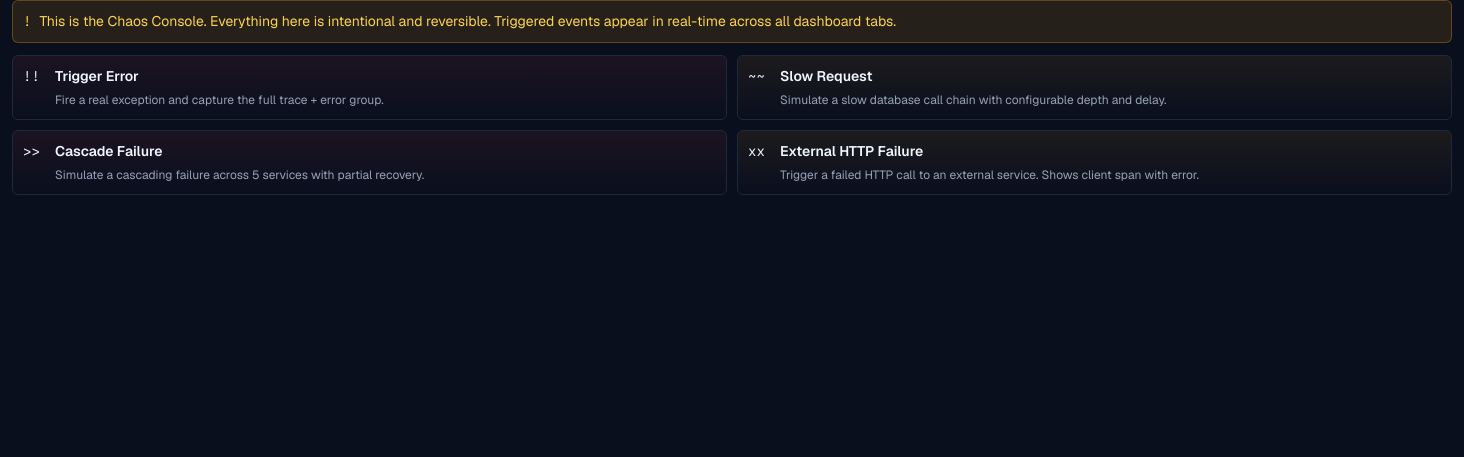
it: ChaosConsole › expands config panel when action clicked
The width and height of the screenshot is (1464, 457).
Click the text "Trigger Error": [97, 76] box [55, 67, 139, 85]
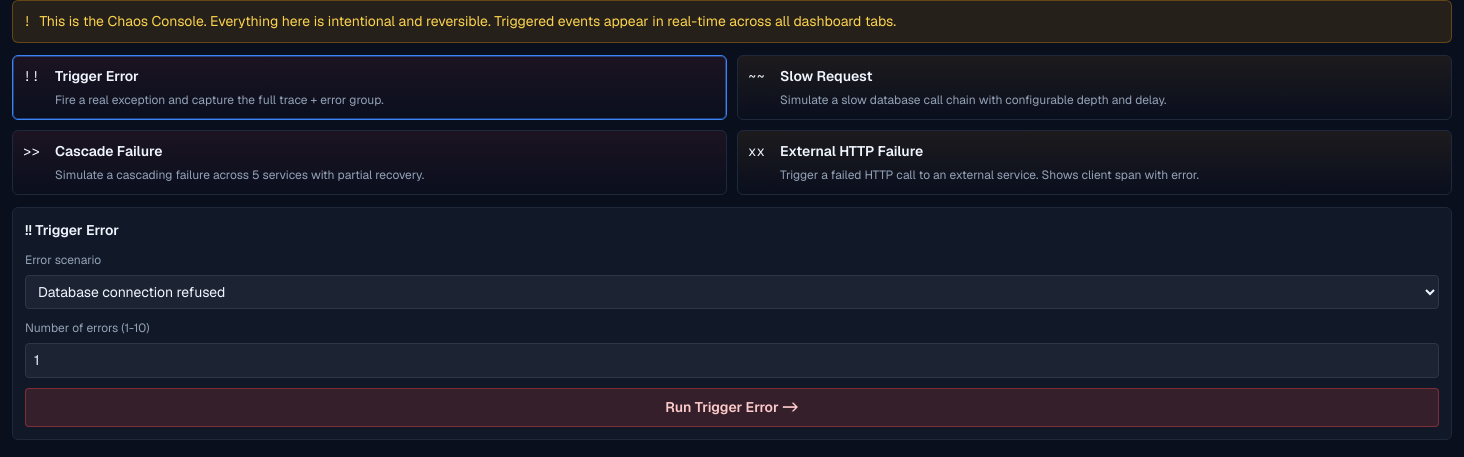
Result: the text "Error scenario" is shown at [25, 252, 101, 268]
